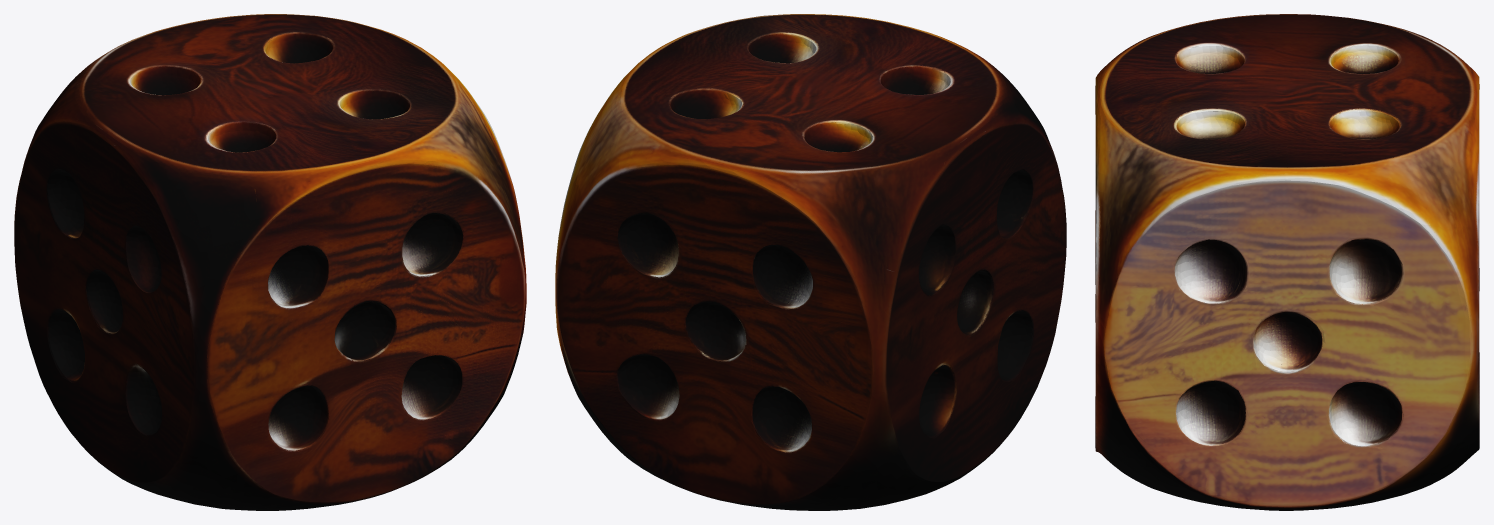
The model's file is wooden-dice-vintage.jpeg.glb.
3 renders of one model, left to right at view 1: azimuth 30°, elevation 25°; view 2: azimuth 150°, elevation 25°; view 3: azimuth 270°, elevation 25°, orthographic.
Parts seen in each view (by area): view 1: world; view 2: world; view 3: world.
Part boxes in pixels (box(x1,y1,x2,y2)): world: box(14, 14, 526, 510); world: box(555, 14, 1066, 510); world: box(1095, 14, 1479, 510).
Size of the model in its own units: 1 by 0.9916 by 1.
1 material, 1 textured.
